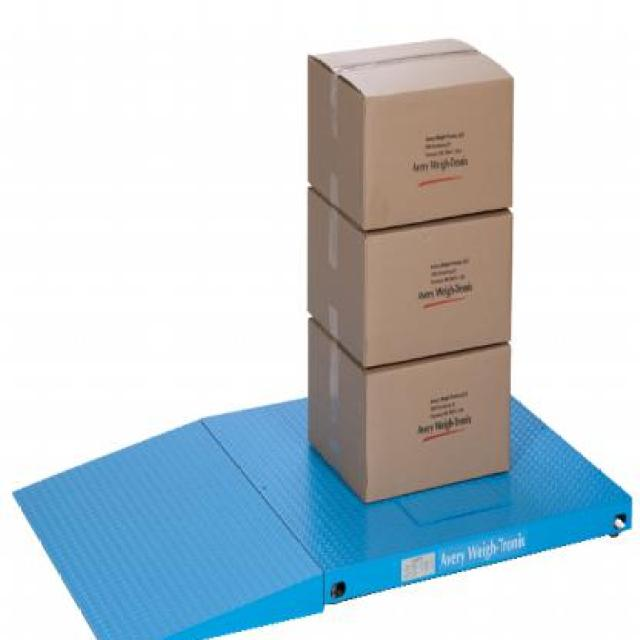box: (295, 326, 536, 538), (299, 24, 524, 232), (297, 190, 529, 370)
